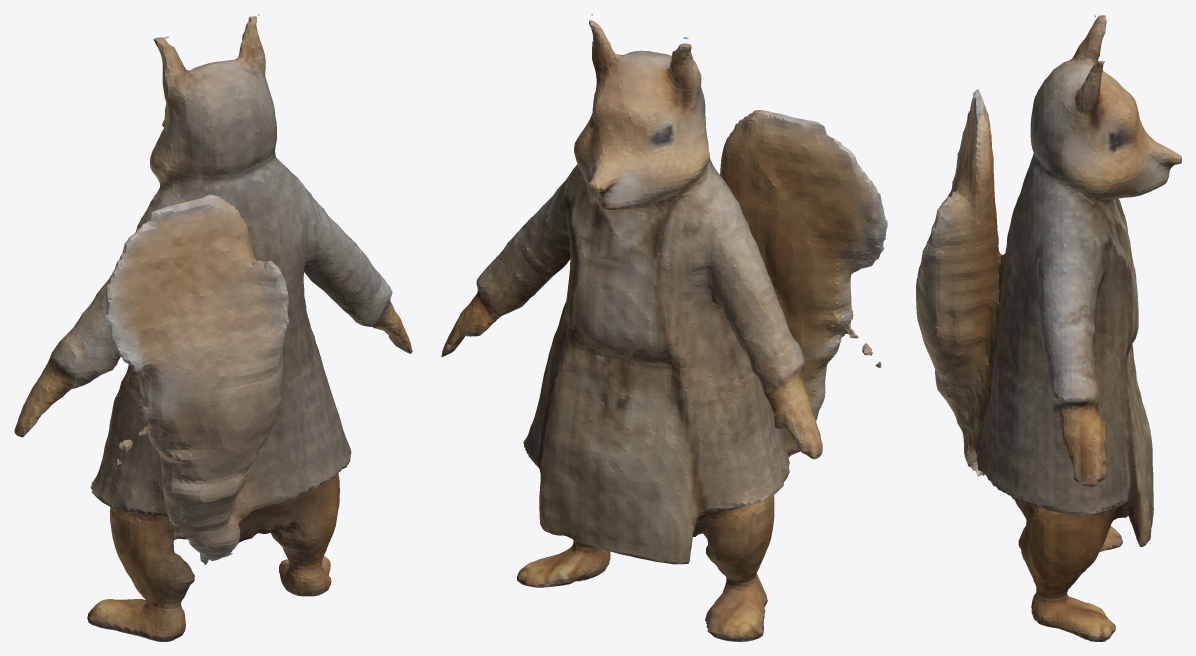
The model's file is drmineral_raw.glb.
3 renders of one model, left to right at view 1: azimuth 30°, elevation 25°; view 2: azimuth 150°, elevation 25°; view 3: azimuth 270°, elevation 25°, orthographic. The views are drawn at different scales.
Visible parts, largest first — view 1: world; view 2: world; view 3: world.
Boxes of the visible parts, bbox=[...] form: world: bbox=[14, 14, 412, 641]; world: bbox=[441, 14, 887, 641]; world: bbox=[916, 14, 1181, 641].
Bounding box in the file's own units: 1.37 × 1.98 × 0.8608.
